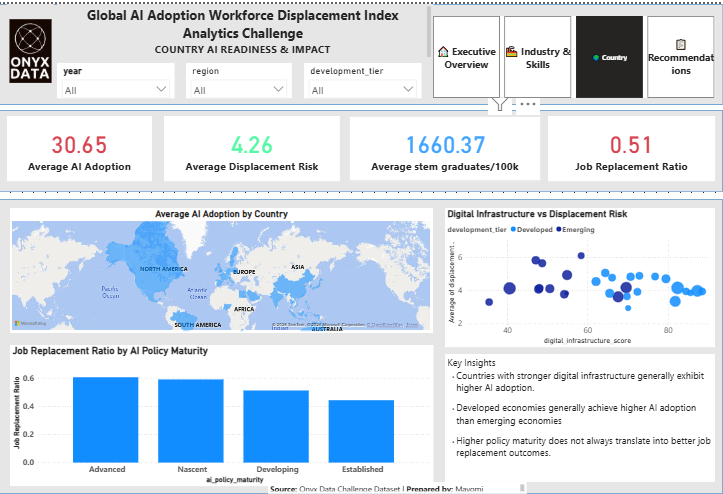

The page's visual inventory and layout, read from the dashboard file:
{"tool":"powerbi","page":{"name":" 🌍 Country","canvas":[1480,1000],"ordinal":2},"visuals":[{"type":"textbox","box":[10,0,1438,206],"z":0},{"type":"shape","box":[0,0,1480,206],"z":1000},{"type":"shape","box":[-8.2,216.3,1487.8,167.3],"z":2000},{"type":"shape","box":[-8.2,398,1487.8,602],"z":3000},{"type":"image","box":[18.4,0,95.9,191.8],"z":4000},{"type":"textbox","box":[120,0,768,120],"z":5000},{"type":"card","fields":{"Values":["Avg(dim_country.stem_graduates_per_100k)"]},"box":[716.3,228.6,391.8,132.7],"z":6000},{"type":"card","fields":{"Values":["Measures (2).Average Displacement Risk"]},"box":[338.8,228.6,359.2,132.7],"z":7000},{"type":"card","fields":{"Values":["Measures (2).Average AI Adoption"]},"box":[18.4,228.6,295.9,132.7],"z":8000},{"type":"card","fields":{"Values":["Measures (2).Job Replacement Ratio"]},"box":[1122.4,228.6,340.8,132.7],"z":9000},{"type":"filledMap","title":"Average AI Adoption by Country","fields":{"Category":["dim_country.country_name"]},"box":[24.5,416.3,863.3,255.1],"z":10000},{"type":"clusteredColumnChart","title":"Job Replacement Ratio by AI Policy Maturity","fields":{"Y":["Measures (2).Job Replacement Ratio"],"Category":["dim_country.ai_policy_maturity"]},"box":[24,696,864,288],"z":11000},{"type":"scatterChart","title":"Digital Infrastructure vs Displacement Risk","fields":{"X":["dim_country.digital_infrastructure_score"],"Y":["Avg(fact_workforce_ai_index.displacement_risk_index)"],"Size":["Sum(fact_workforce_ai_index.jobs_displaced_count)"],"Series":["dim_country.development_tier"]},"box":[912.2,416.3,551,283.7],"z":12000},{"type":"slicer","fields":{"Values":["dim_date.year"]},"box":[120,120,240,72],"z":13000},{"type":"slicer","fields":{"Values":["dim_country.region"]},"box":[384,120,216,72],"z":14000},{"type":"slicer","fields":{"Values":["dim_country.development_tier"]},"box":[624,120,240,72],"z":15000},{"type":"textbox","box":[552,976,528,24],"z":16000},{"type":"pageNavigator","box":[887.8,24.5,575.5,167.3],"z":17000},{"type":"textbox","box":[912.2,714.3,551,261.2],"z":18000}]}

Visuals, with their boxes on the page's 1480x1000 design canvas (x1, y1, x2, y2). These are canvas units, not pixel positions in the 723x494 screenshot, which may show the page scaled, cropped or inside an application window:
textbox: select_region(10, 0, 1448, 206)
shape: select_region(0, 0, 1480, 206)
shape: select_region(-8, 216, 1480, 384)
shape: select_region(-8, 398, 1480, 1000)
image: select_region(18, 0, 114, 192)
textbox: select_region(120, 0, 888, 120)
card - Avg(dim_country.stem_graduates_per_100k): select_region(716, 229, 1108, 361)
card - Measures (2).Average Displacement Risk: select_region(339, 229, 698, 361)
card - Measures (2).Average AI Adoption: select_region(18, 229, 314, 361)
card - Measures (2).Job Replacement Ratio: select_region(1122, 229, 1463, 361)
"Average AI Adoption by Country" filledMap: select_region(24, 416, 888, 671)
"Job Replacement Ratio by AI Policy Maturity" clusteredColumnChart: select_region(24, 696, 888, 984)
"Digital Infrastructure vs Displacement Risk" scatterChart: select_region(912, 416, 1463, 700)
slicer - dim_date.year: select_region(120, 120, 360, 192)
slicer - dim_country.region: select_region(384, 120, 600, 192)
slicer - dim_country.development_tier: select_region(624, 120, 864, 192)
textbox: select_region(552, 976, 1080, 1000)
pageNavigator: select_region(888, 24, 1463, 192)
textbox: select_region(912, 714, 1463, 976)
